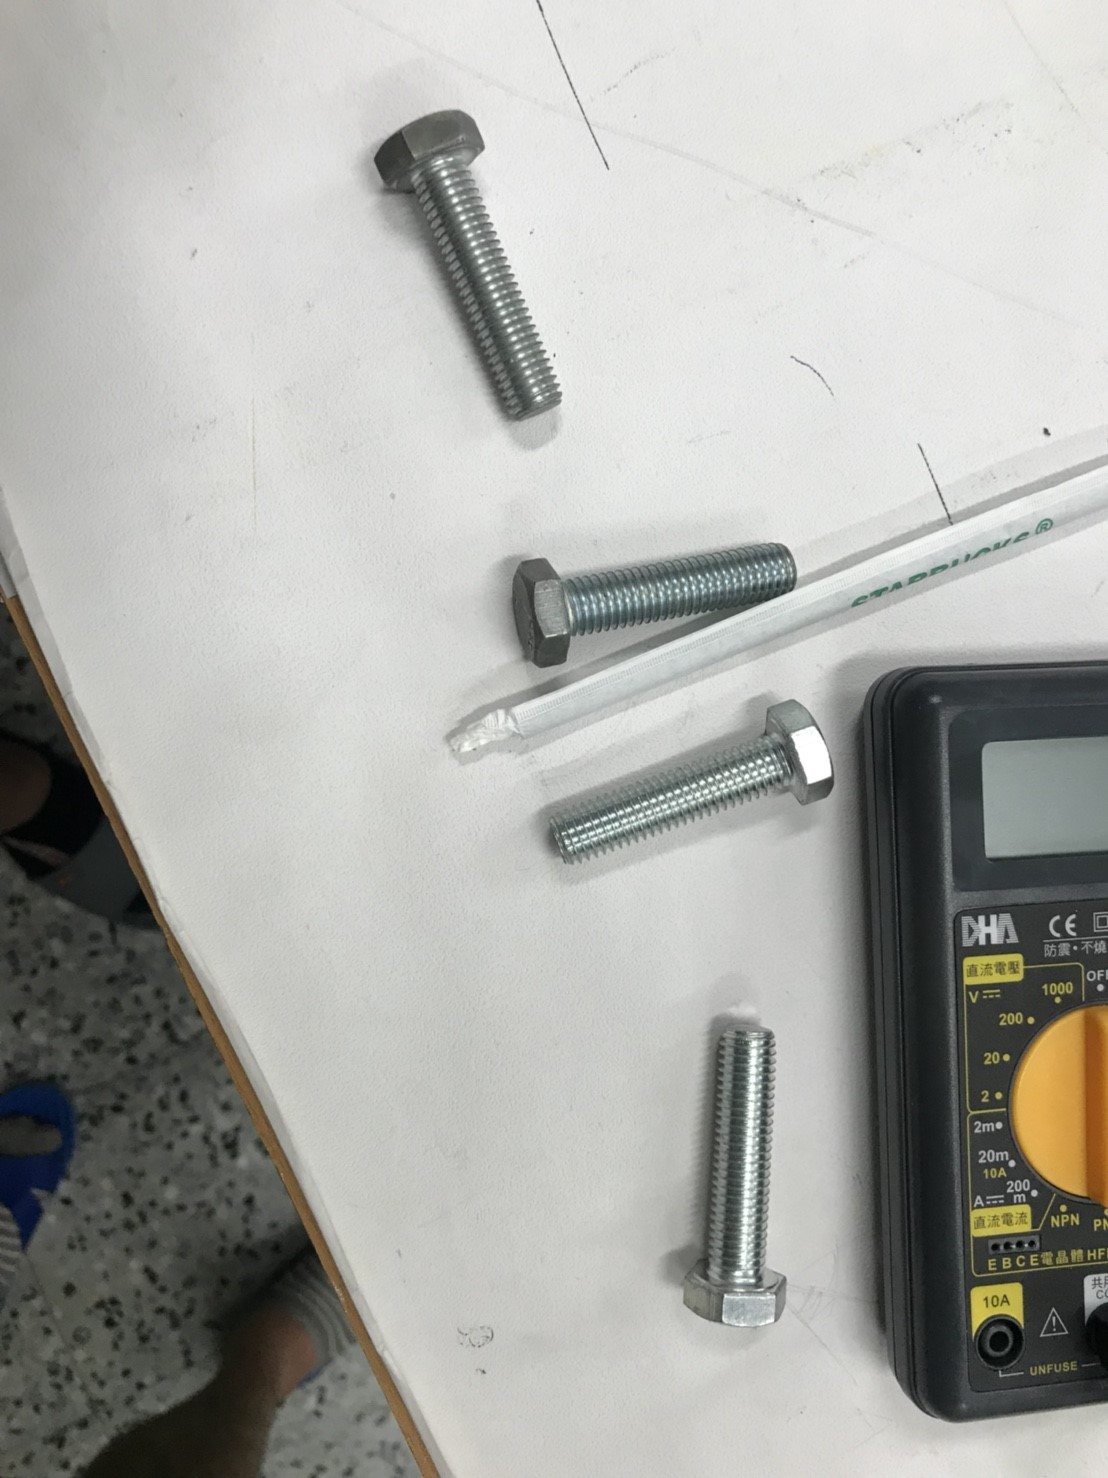screw: (365, 91, 575, 434), (532, 687, 853, 881), (481, 519, 830, 676), (677, 1002, 794, 1357)
